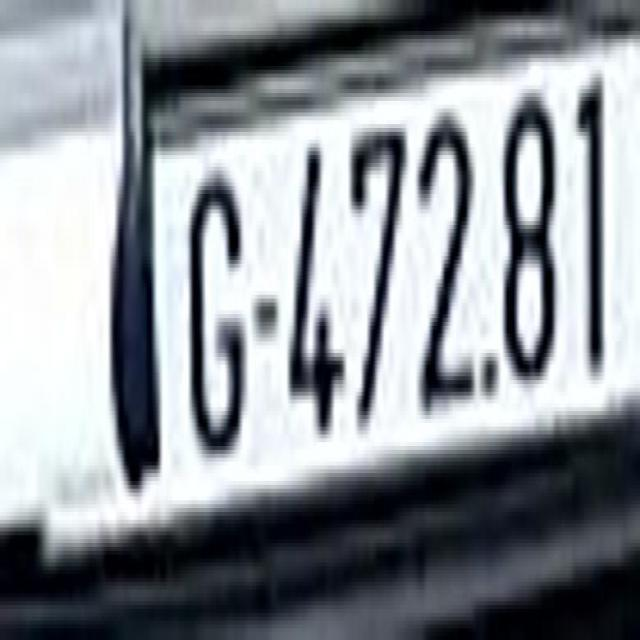1: (574, 74, 608, 372)
2: (418, 108, 472, 416)
4: (292, 155, 342, 431)
7: (352, 116, 406, 419)
8: (503, 101, 556, 384)
G: (190, 163, 243, 450)
